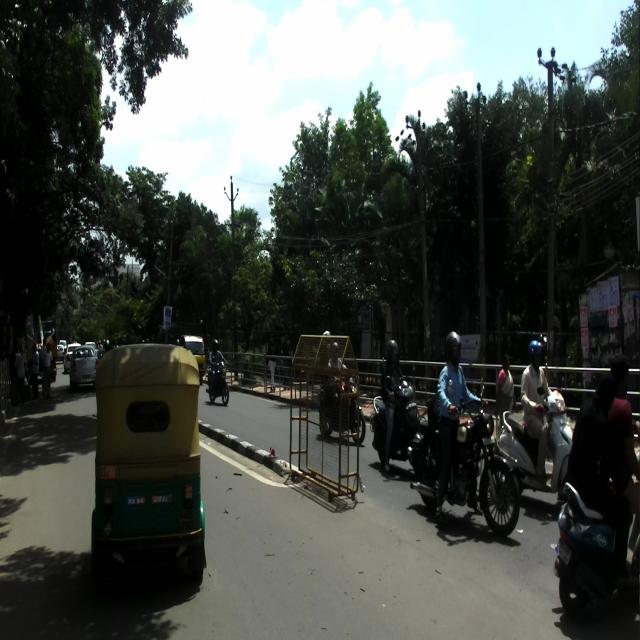autorickshaw: (91, 342, 207, 586)
motorcycle: (549, 420, 640, 615), (409, 384, 520, 536)
scooter: (495, 376, 573, 502), (369, 366, 420, 474)
